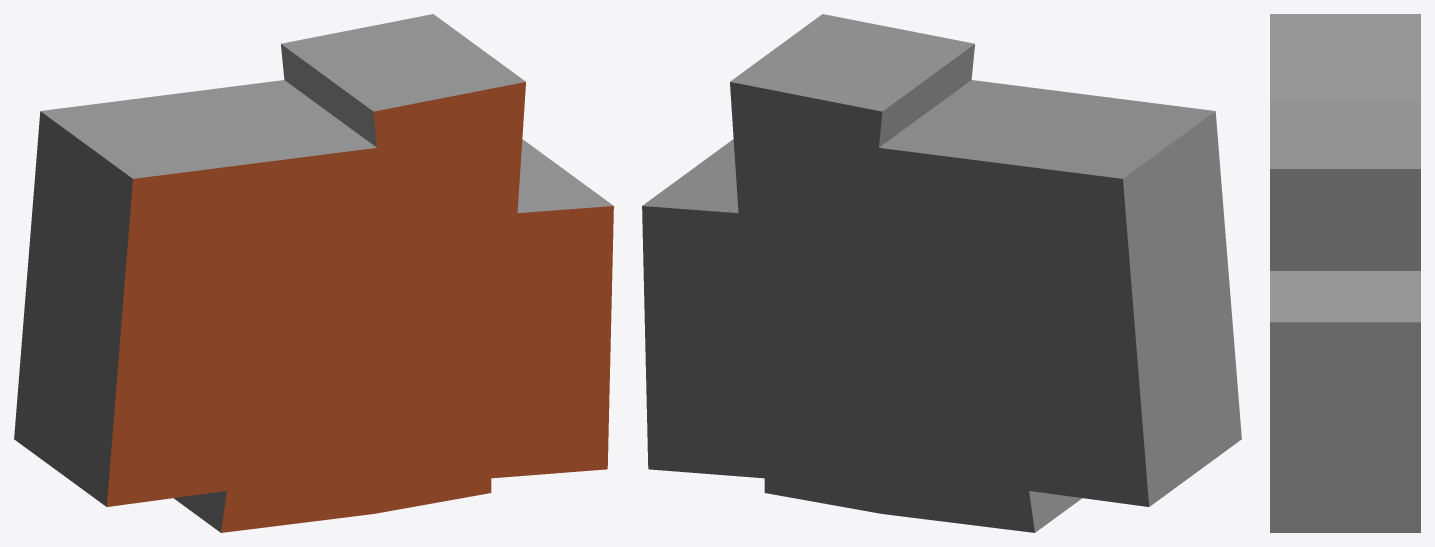
Rendered from construction_7041_assumed_A_Casa_h6m.obj.
The picture shows the model from 3 angles, left to right: view 1: azimuth 30°, elevation 25°; view 2: azimuth 150°, elevation 25°; view 3: azimuth 270°, elevation 25°; orthographic projection. The views are drawn at different scales.
Parts seen in each view (by area): view 1: construction_7041_assumed_A_Casa; view 2: construction_7041_assumed_A_Casa; view 3: construction_7041_assumed_A_Casa.
Part boxes in pixels (x1,y1,x2,y2): construction_7041_assumed_A_Casa: (14,14,613,532); construction_7041_assumed_A_Casa: (642,14,1241,532); construction_7041_assumed_A_Casa: (1270,14,1420,532).
Size of the model in its own units: 18.95 by 14.81 by 6.
